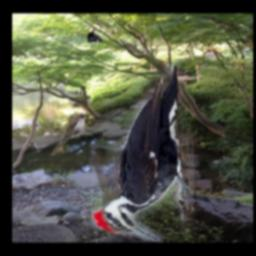Crow: (88, 26, 104, 42)
Cuckoo: (50, 113, 88, 156)
Woodpecker: (91, 65, 197, 242)
